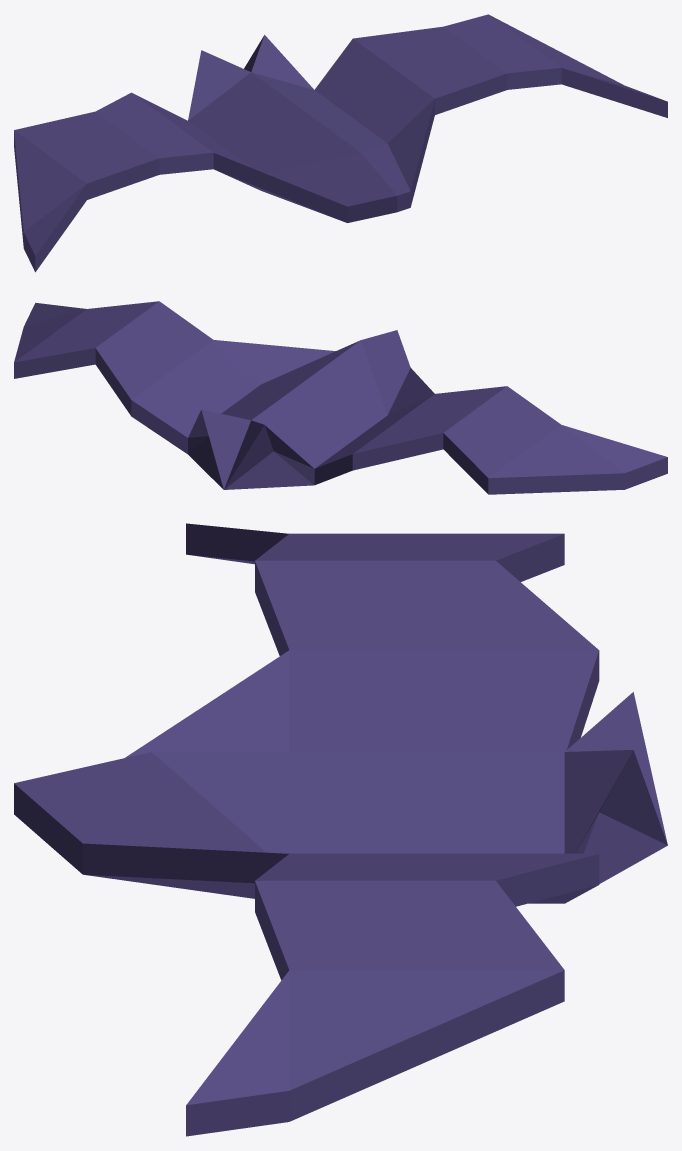
Rendered from Bat.gltf.
The picture shows the model from 3 angles, top to bottom: view 1: azimuth 30°, elevation 25°; view 2: azimuth 150°, elevation 25°; view 3: azimuth 270°, elevation 25°; orthographic projection. The views are drawn at different scales.
Size of the model in its own units: 5 by 0.5627 by 2.37.
1 material, 1 textured.
